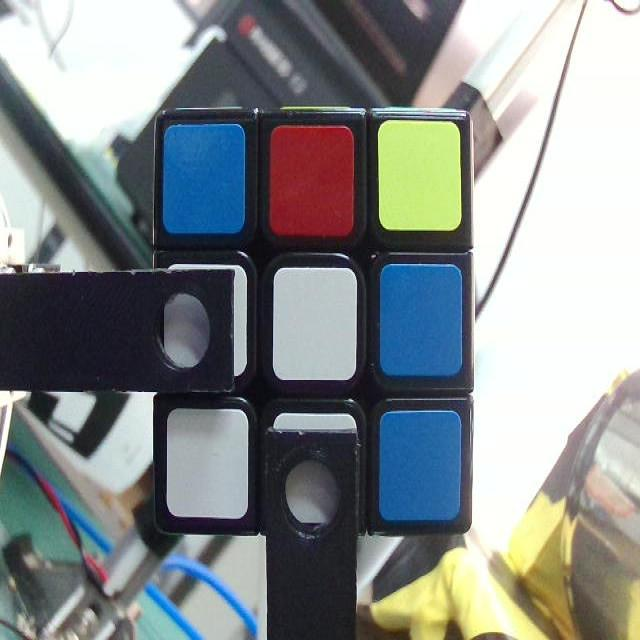b: (375, 419, 464, 526), (381, 266, 462, 375), (163, 123, 245, 230)
r: (272, 133, 356, 235)
w: (270, 416, 356, 524), (165, 268, 249, 376), (169, 413, 251, 520), (276, 272, 356, 381)
y: (378, 120, 468, 226)
